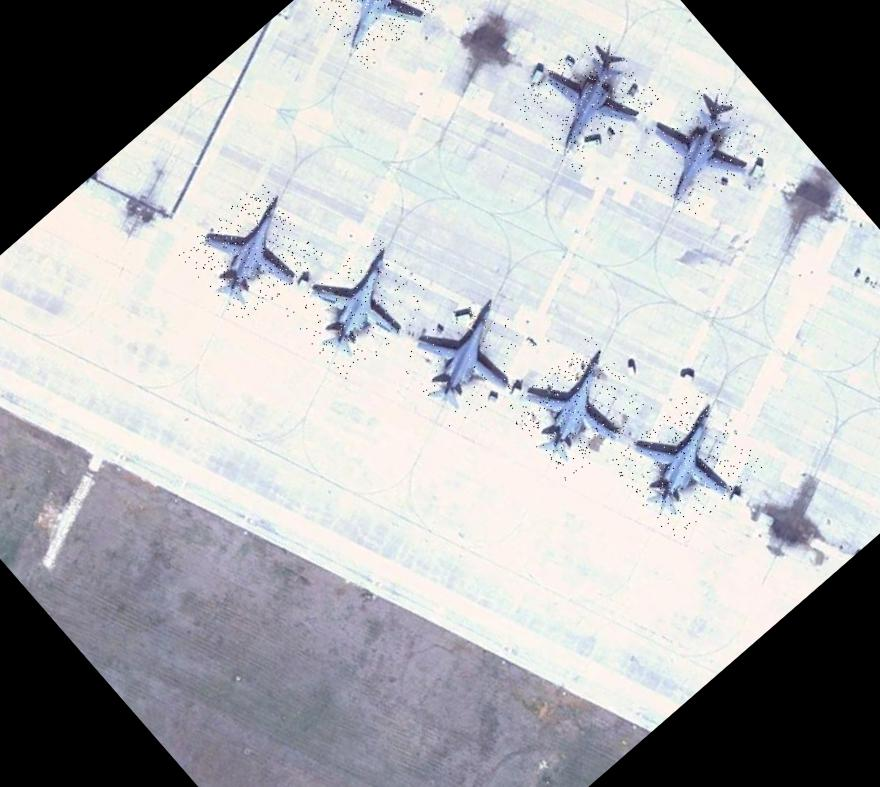A10: (607, 386, 766, 544), (389, 281, 547, 437), (282, 230, 438, 382), (511, 25, 661, 174), (504, 334, 654, 482), (625, 76, 773, 222), (178, 181, 324, 327), (300, 0, 448, 69)
